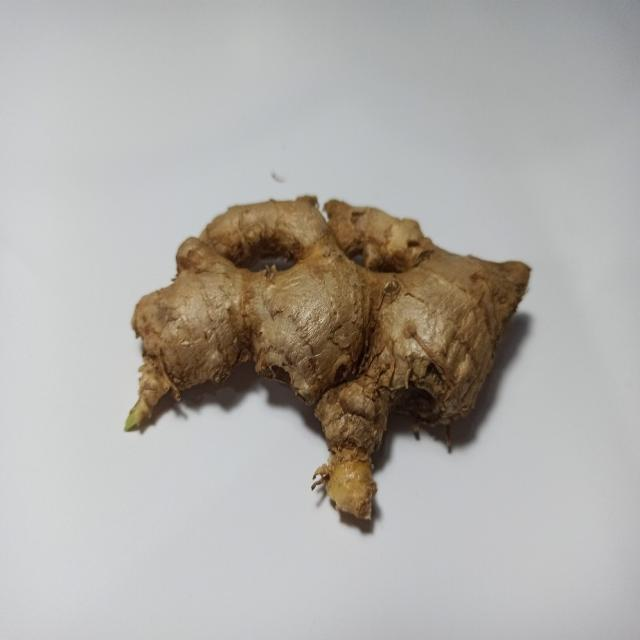ginger: (131, 197, 534, 525)
